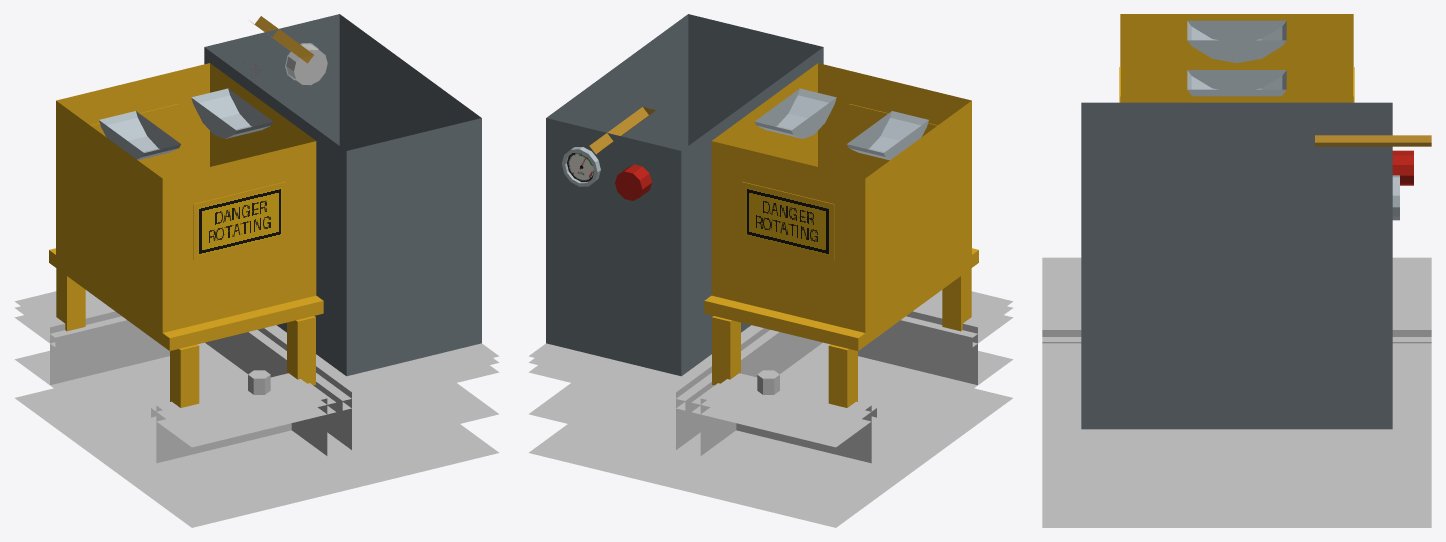
File: cell_13.obj
The picture shows the model from 3 angles, left to right: view 1: azimuth 30°, elevation 25°; view 2: azimuth 150°, elevation 25°; view 3: azimuth 270°, elevation 25°; orthographic projection. The views are drawn at different scales.
Size of the model in its own units: 1 by 1 by 1.
